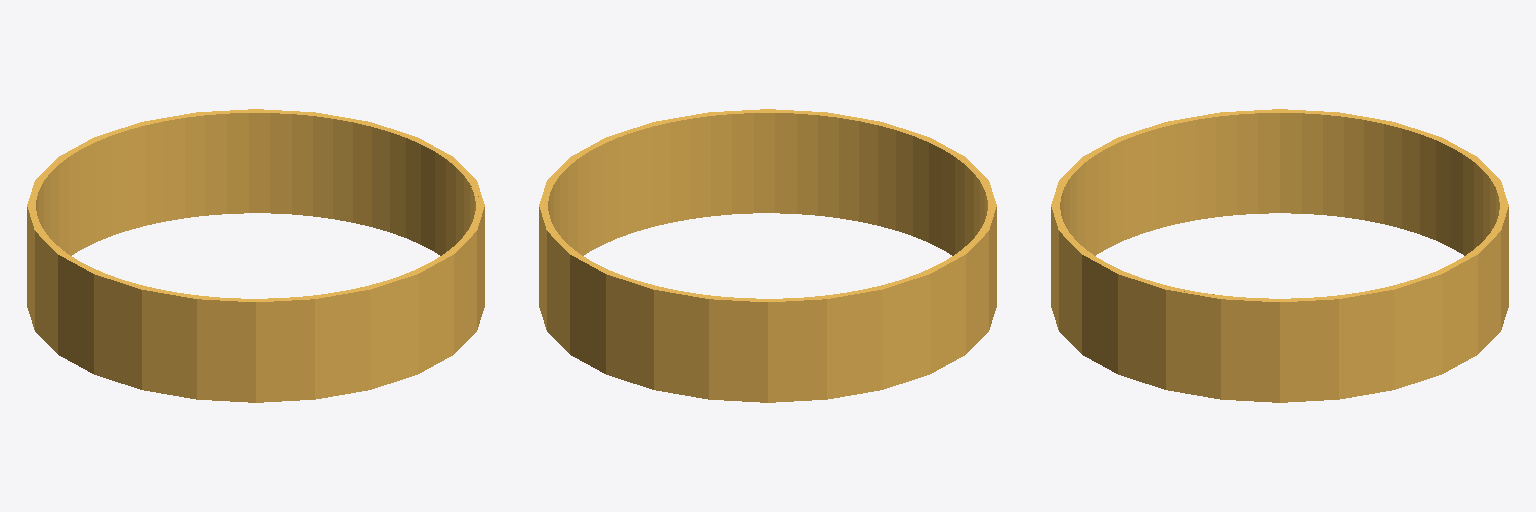
Rendered from Wheel.obj.
3 renders of one model, left to right at view 1: azimuth 30°, elevation 25°; view 2: azimuth 150°, elevation 25°; view 3: azimuth 270°, elevation 25°, orthographic.
Visible parts, largest first — view 1: UModeler Object; view 2: UModeler Object; view 3: UModeler Object.
Boxes of the visible parts, box(x1,y1,x2,y2) form: UModeler Object: box(27, 109, 484, 402); UModeler Object: box(539, 109, 996, 402); UModeler Object: box(1051, 109, 1508, 402).
Size of the model in its own units: 17.55 by 4.25 by 17.55.